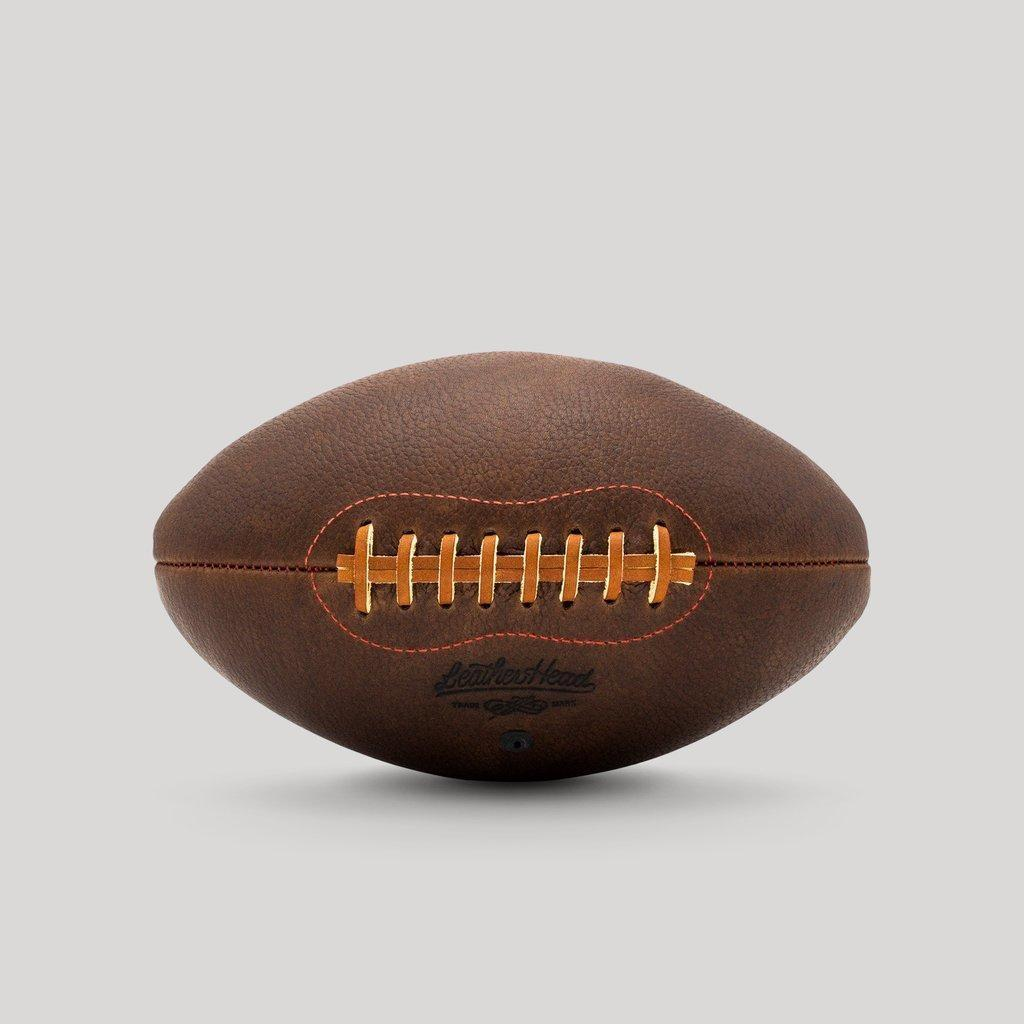Sports-Ball: (156, 354, 870, 780)
